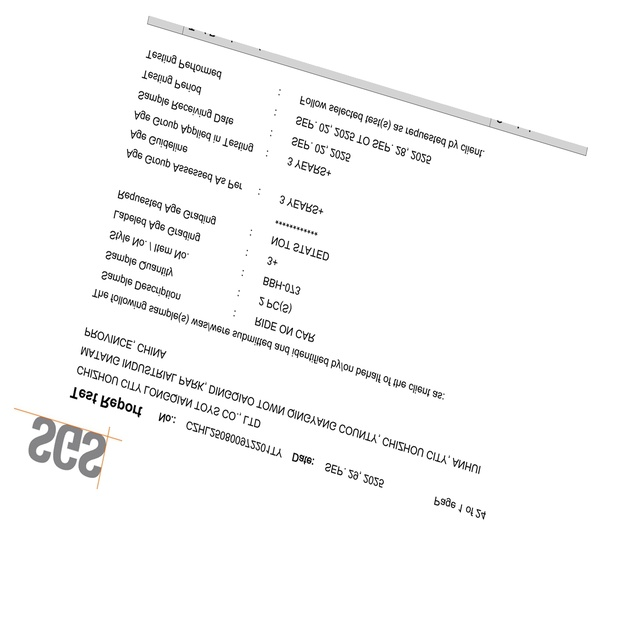sgs: (29, 416, 106, 478)
